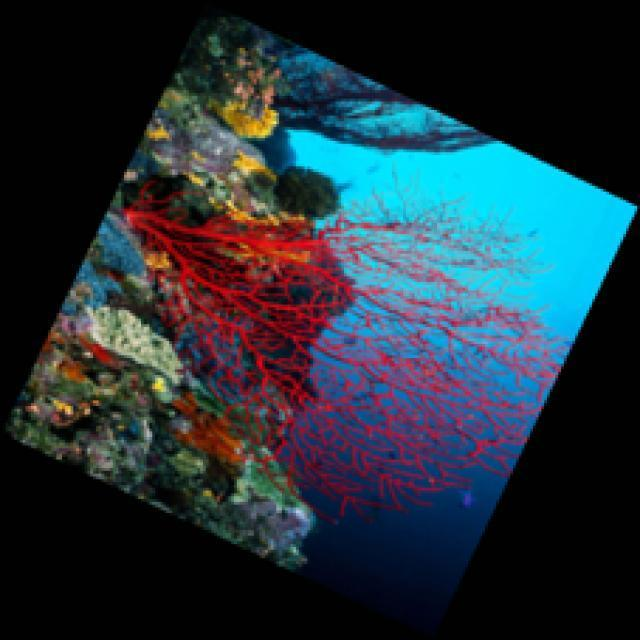Healthy: (122, 180, 582, 523), (60, 218, 147, 315), (174, 390, 246, 468), (218, 98, 280, 141)
